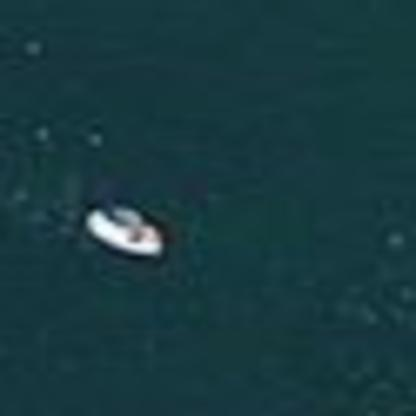ship: (74, 199, 175, 267)
